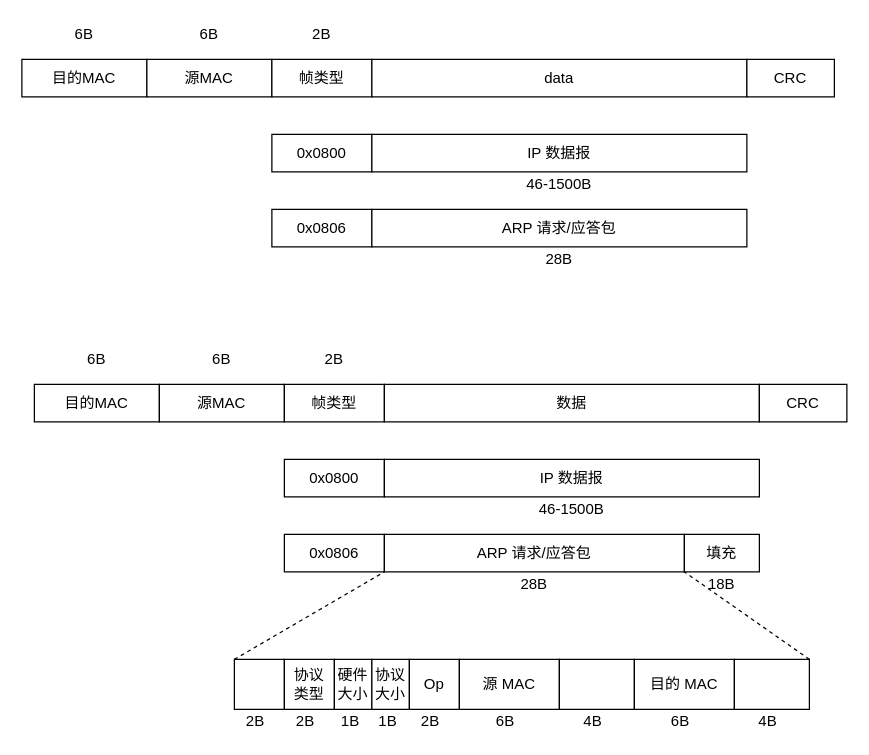
Image size: 869x755. Some labels were removed from this diagram. The shapes that lost their labels are listed below. From the top down, each one's centre as x and y in pixels, then its label:
At point (258, 683): "硬件 类型".
At point (596, 683): "源 IP".
At point (771, 683): "目的 IP".
